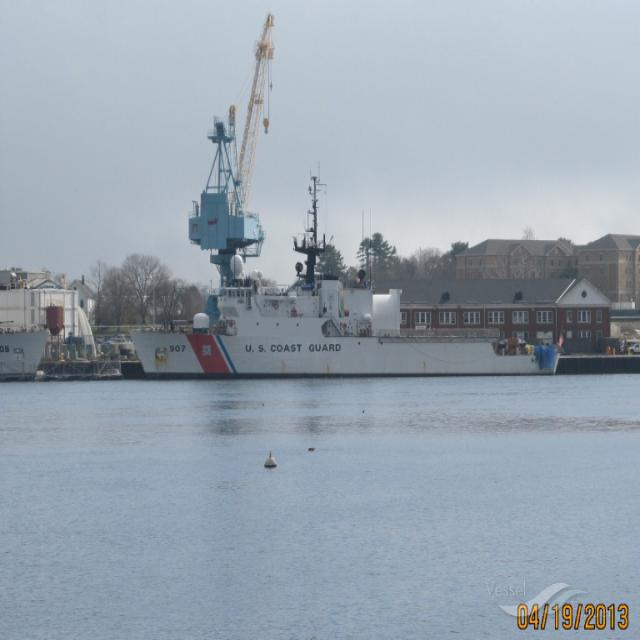OCR: (240, 340, 344, 361), (166, 339, 186, 356)
